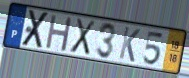3: (96, 22, 118, 60)
5: (142, 30, 166, 66)
H: (44, 13, 74, 54)
K: (117, 25, 142, 64)
X: (19, 9, 51, 50), (68, 17, 97, 57)
